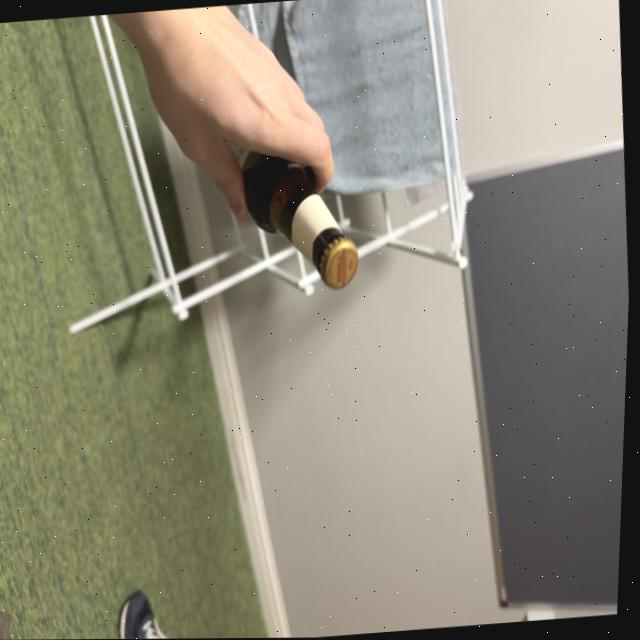beer: (230, 141, 371, 298)
